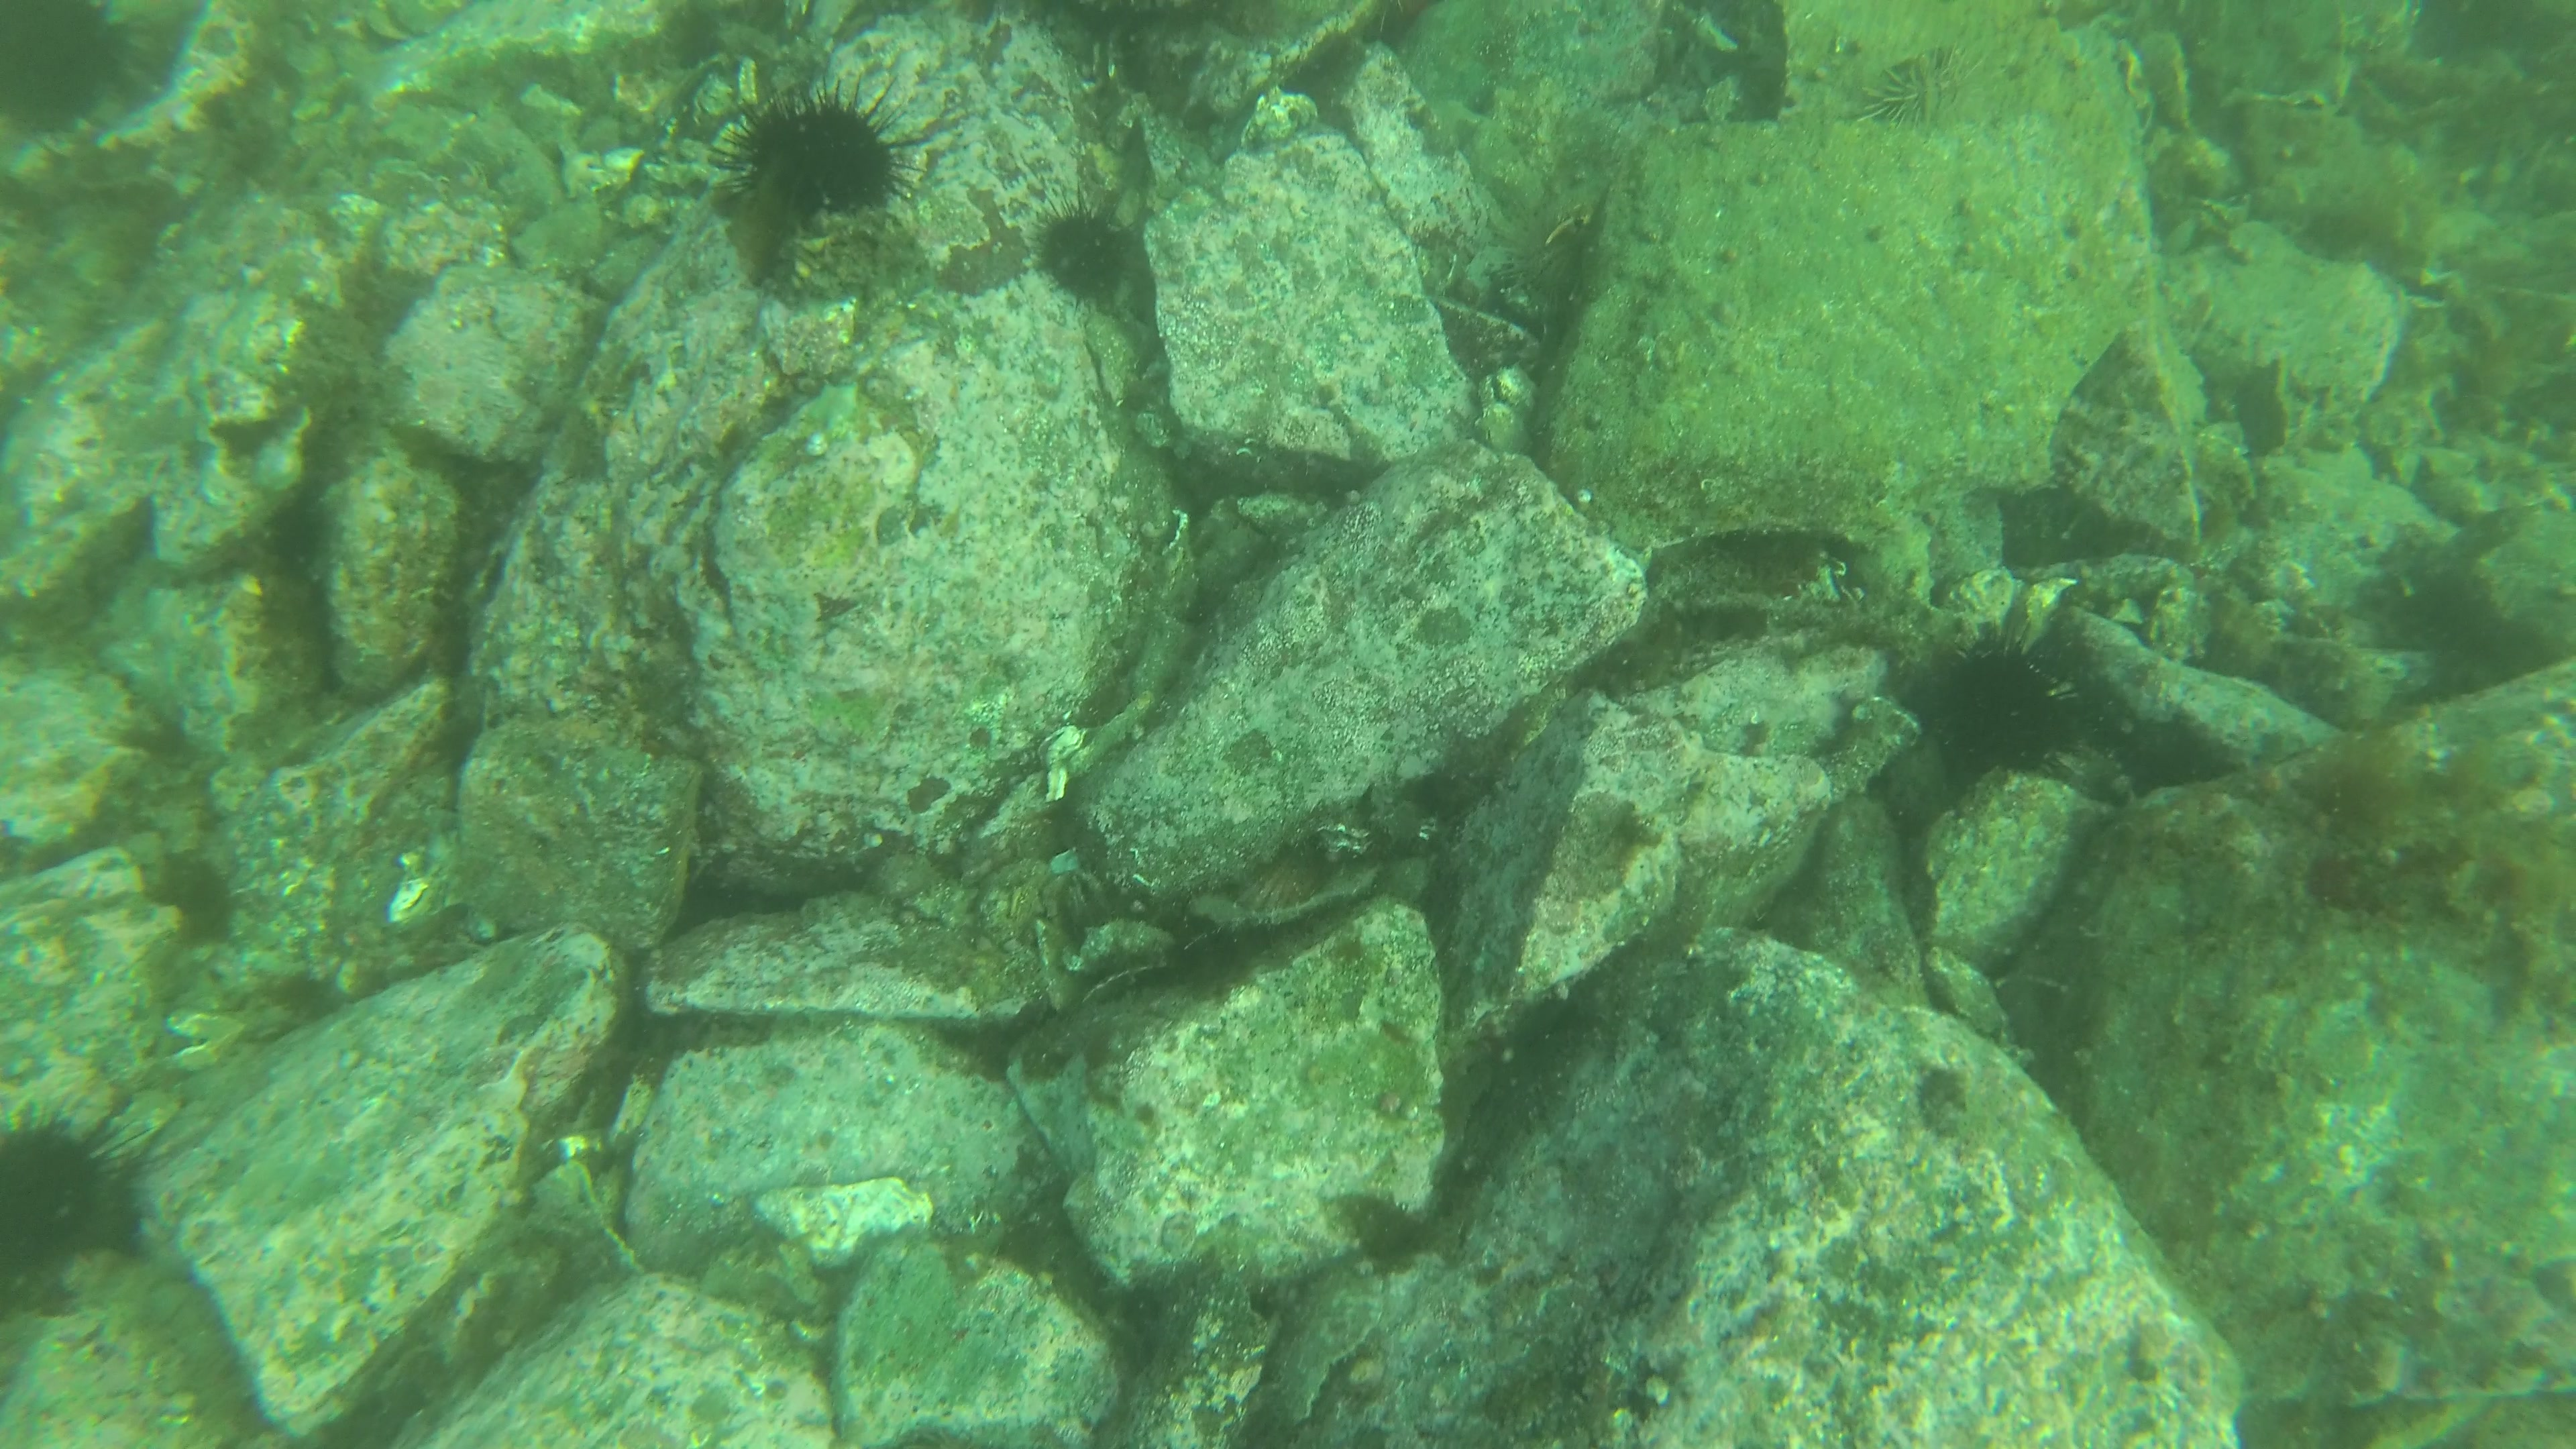echinus: (0, 1097, 157, 1288), (711, 83, 927, 216), (1921, 632, 2086, 786), (0, 0, 152, 142), (1031, 182, 1152, 320), (1856, 41, 1990, 134)
